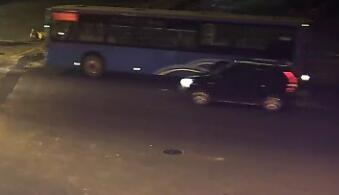bus: (41, 3, 316, 89)
car: (187, 55, 299, 111)
